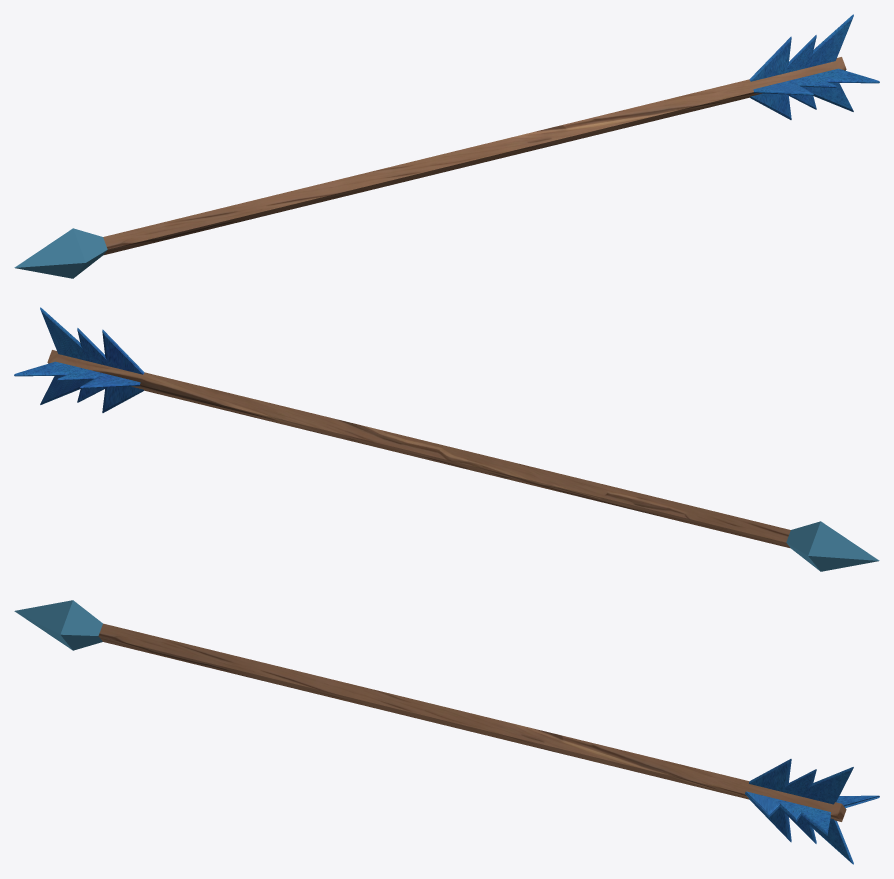
Rendered from sm_projectileNewArrow.fbx.
3 renders of one model, top to bottom at view 1: azimuth 30°, elevation 25°; view 2: azimuth 150°, elevation 25°; view 3: azimuth 330°, elevation 25°, orthographic.
Visible parts, largest first — view 1: sm_projectileNewArrow; view 2: sm_projectileNewArrow; view 3: sm_projectileNewArrow.
Part boxes in pixels (bbox=[...]): sm_projectileNewArrow: bbox=[14, 14, 879, 278]; sm_projectileNewArrow: bbox=[14, 307, 879, 571]; sm_projectileNewArrow: bbox=[14, 600, 879, 864].
Size of the model in its own units: 2.26 by 0.2527 by 0.2486.
Materials: 1 (1 with a texture image).
